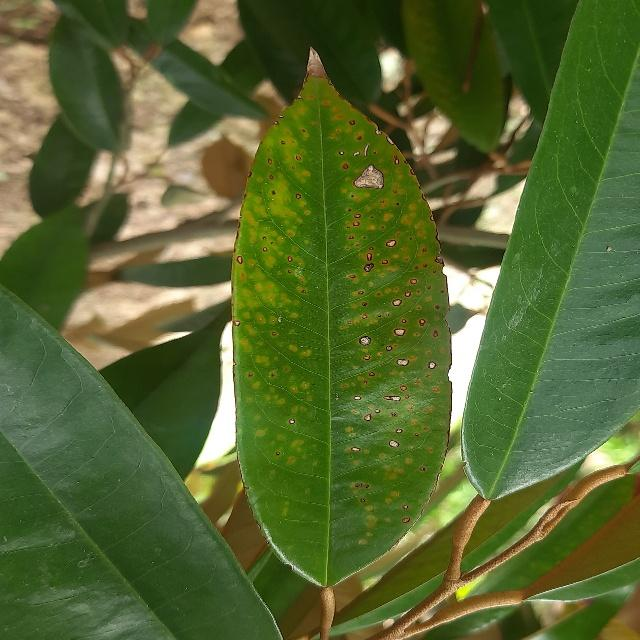Leaf Spot: (219, 43, 463, 599)
